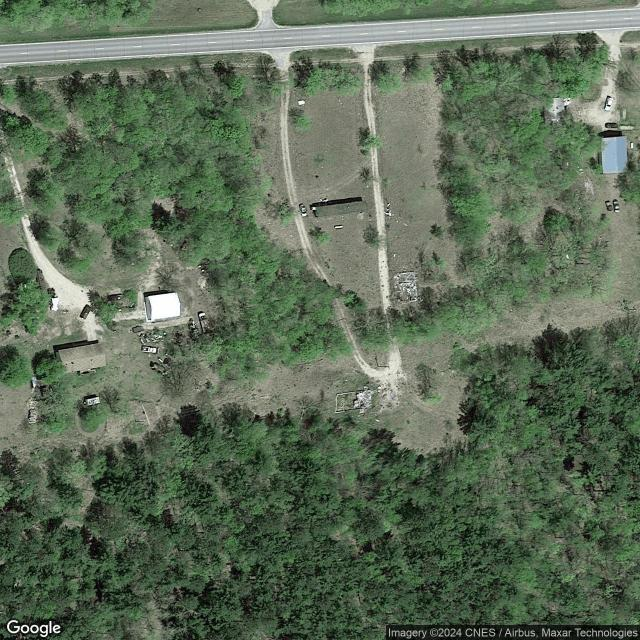Propane: (334, 224, 343, 229), (630, 142, 634, 149)
